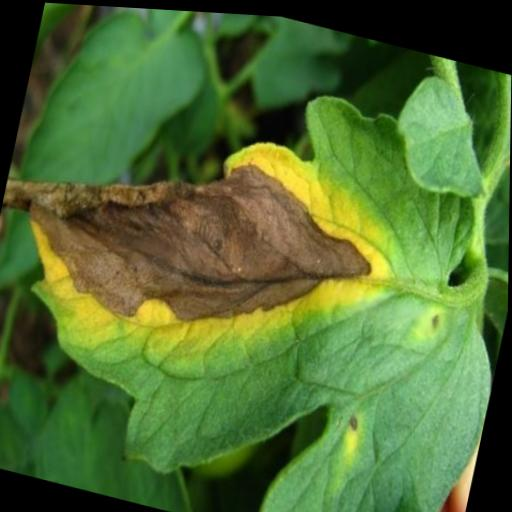Early Blight: (0, 15, 512, 512)
Healthy: (18, 1, 213, 217), (386, 66, 506, 200)
